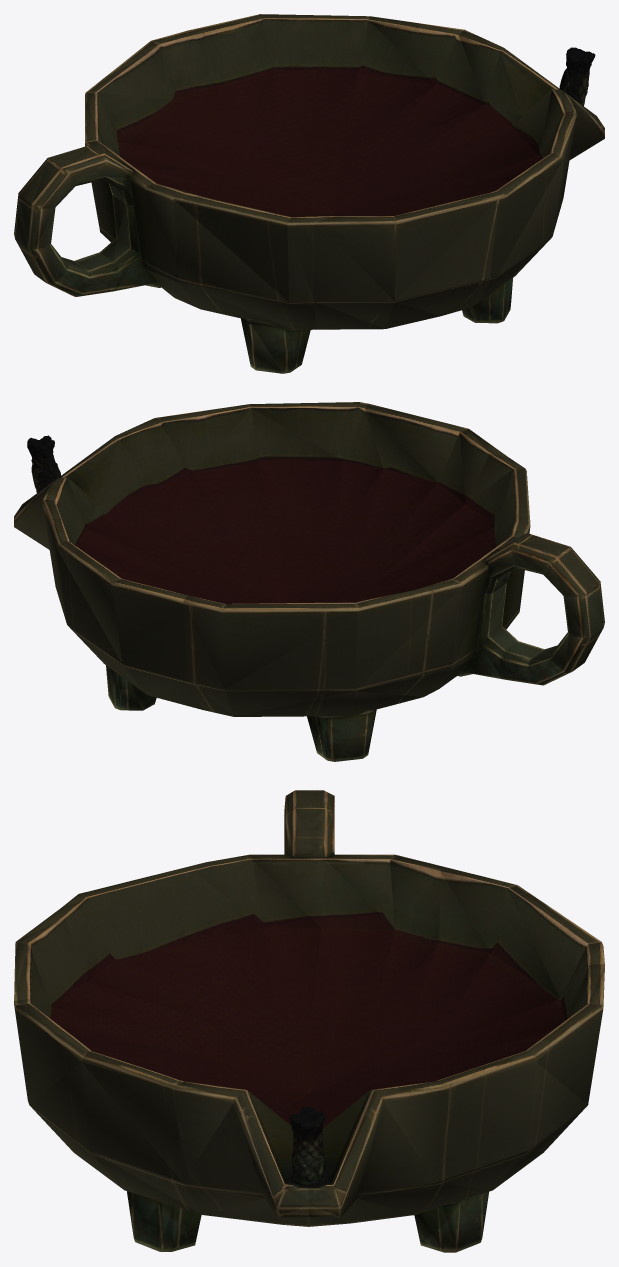
The model's file is in-hand-lamp.glb.
3 renders of one model, top to bottom at view 1: azimuth 30°, elevation 25°; view 2: azimuth 150°, elevation 25°; view 3: azimuth 270°, elevation 25°, orthographic. The views are drawn at different scales.
Visible parts, largest first — view 1: tripo_node_88e26383-b30d-4668-bded-69499f7cbc02; view 2: tripo_node_88e26383-b30d-4668-bded-69499f7cbc02; view 3: tripo_node_88e26383-b30d-4668-bded-69499f7cbc02.
Part boxes in pixels (x1=…): tripo_node_88e26383-b30d-4668-bded-69499f7cbc02: x1=14, y1=14, x2=604, y2=373; tripo_node_88e26383-b30d-4668-bded-69499f7cbc02: x1=14, y1=402, x2=604, y2=761; tripo_node_88e26383-b30d-4668-bded-69499f7cbc02: x1=14, y1=790, x2=604, y2=1252.
Size of the model in its own units: 0.998 by 0.334 by 0.752.
Materials: 1 (1 with a texture image).
